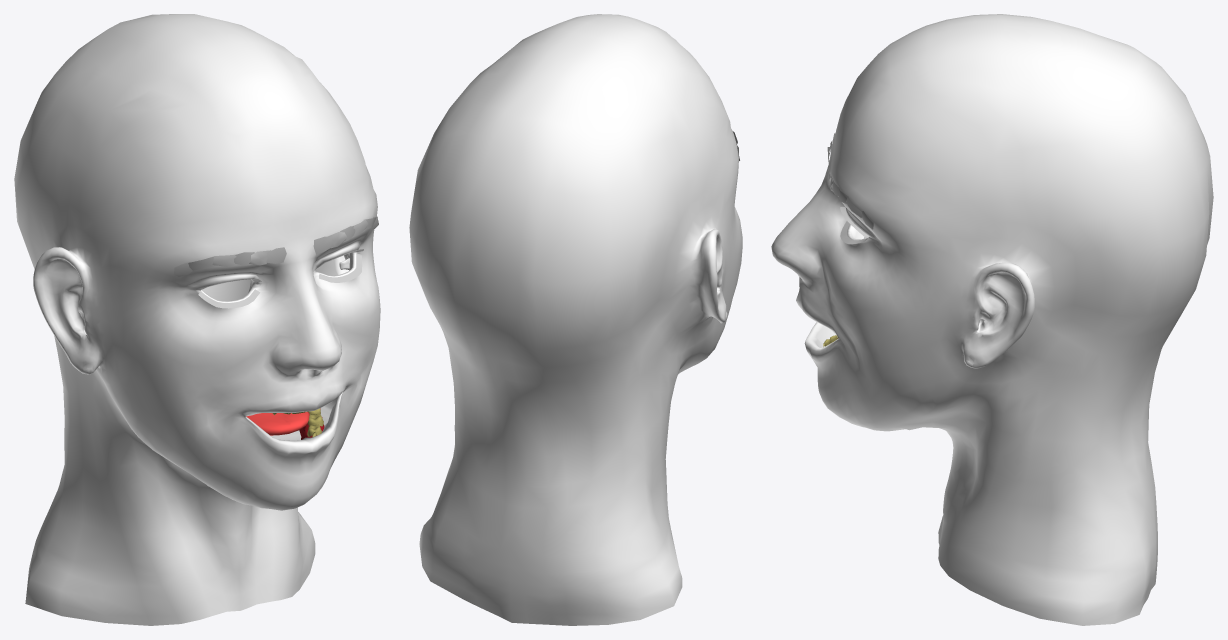
The model's file is result1.obj.
3 renders of one model, left to right at view 1: azimuth 30°, elevation 25°; view 2: azimuth 150°, elevation 25°; view 3: azimuth 270°, elevation 25°, orthographic. The views are drawn at different scales.
Parts seen in each view (by area): view 1: FaceMesh_Plane.003; view 2: FaceMesh_Plane.003; view 3: FaceMesh_Plane.003.
Boxes of the visible parts, left/top/right/bottom form: FaceMesh_Plane.003: left=14, top=14, right=380, bottom=625; FaceMesh_Plane.003: left=409, top=14, right=742, bottom=625; FaceMesh_Plane.003: left=771, top=14, right=1213, bottom=625.
Size of the model in its own units: 1.54 by 2.71 by 1.95.
5 materials, 1 textured.
